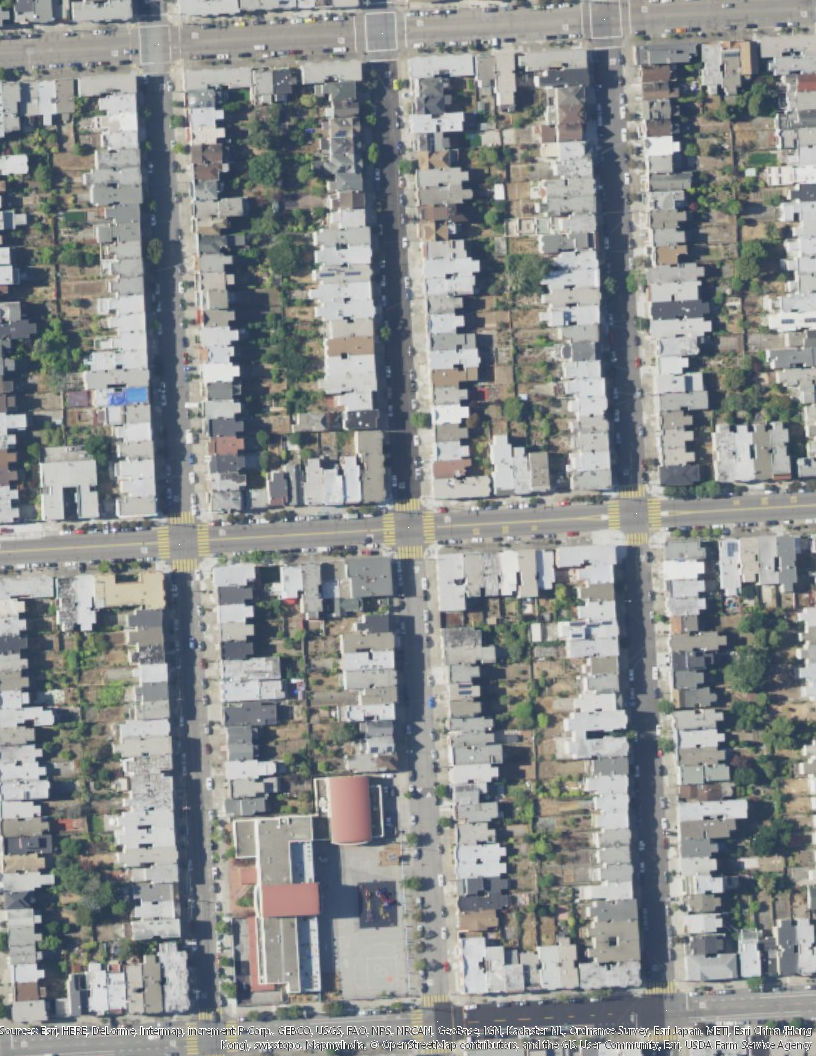zebracross: (156, 525, 171, 561), (646, 498, 662, 530), (645, 981, 679, 996), (196, 524, 210, 557), (381, 513, 395, 546), (396, 497, 423, 514), (618, 484, 648, 499), (423, 512, 437, 544), (397, 545, 424, 561), (607, 498, 620, 528), (174, 558, 199, 573), (169, 510, 195, 524), (197, 1008, 223, 1022), (422, 994, 448, 1008), (625, 530, 648, 545), (410, 1010, 423, 1029), (188, 1036, 199, 1055)
